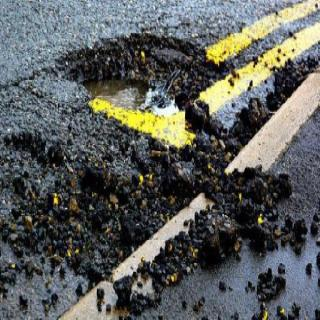pothole: (56, 32, 232, 116)
